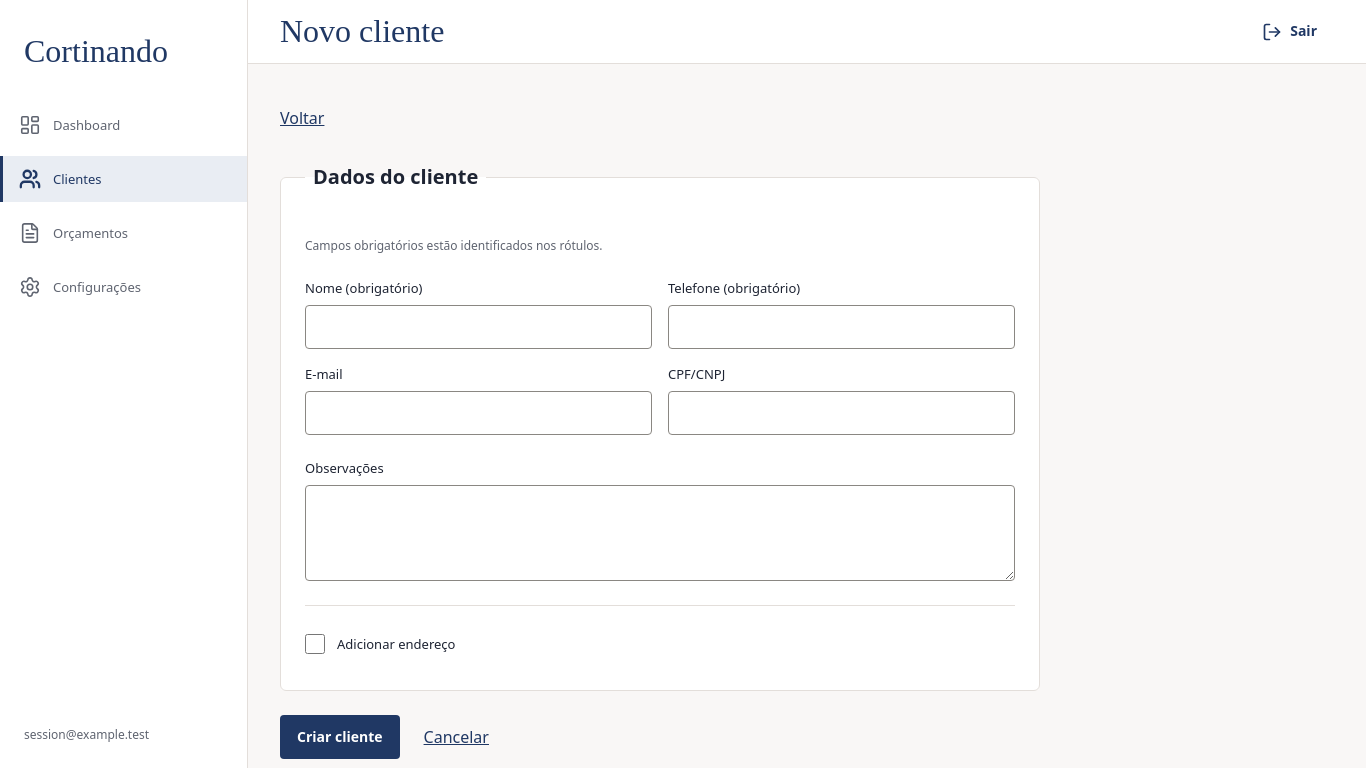
preserves input and shows safe backend failure network
This screenshot has width=1366, height=768.
In the field labelled "Nome (obrigatório)": (478, 327) [305,305,652,349], type "Ana"
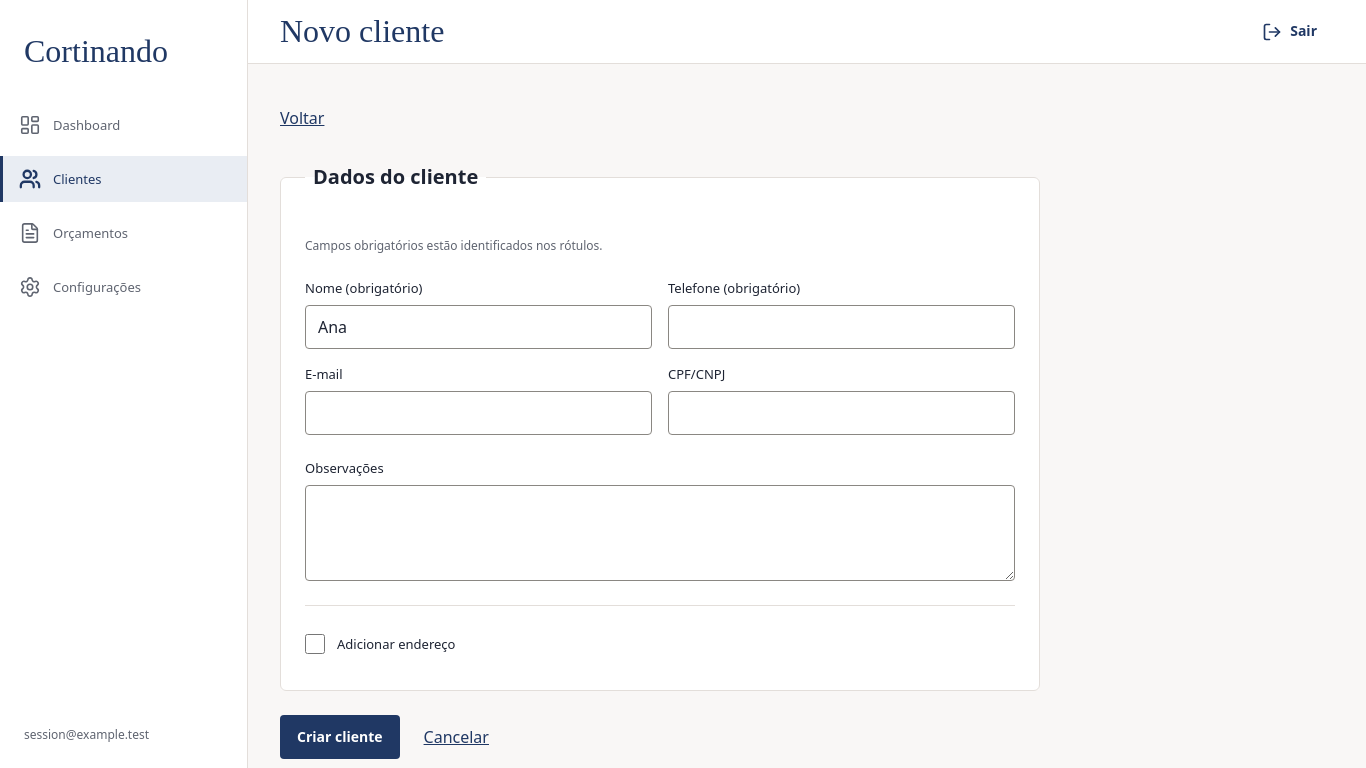
In the field labelled "Telefone (obrigatório)": (842, 327) [668,305,1015,349], type "11912345678"
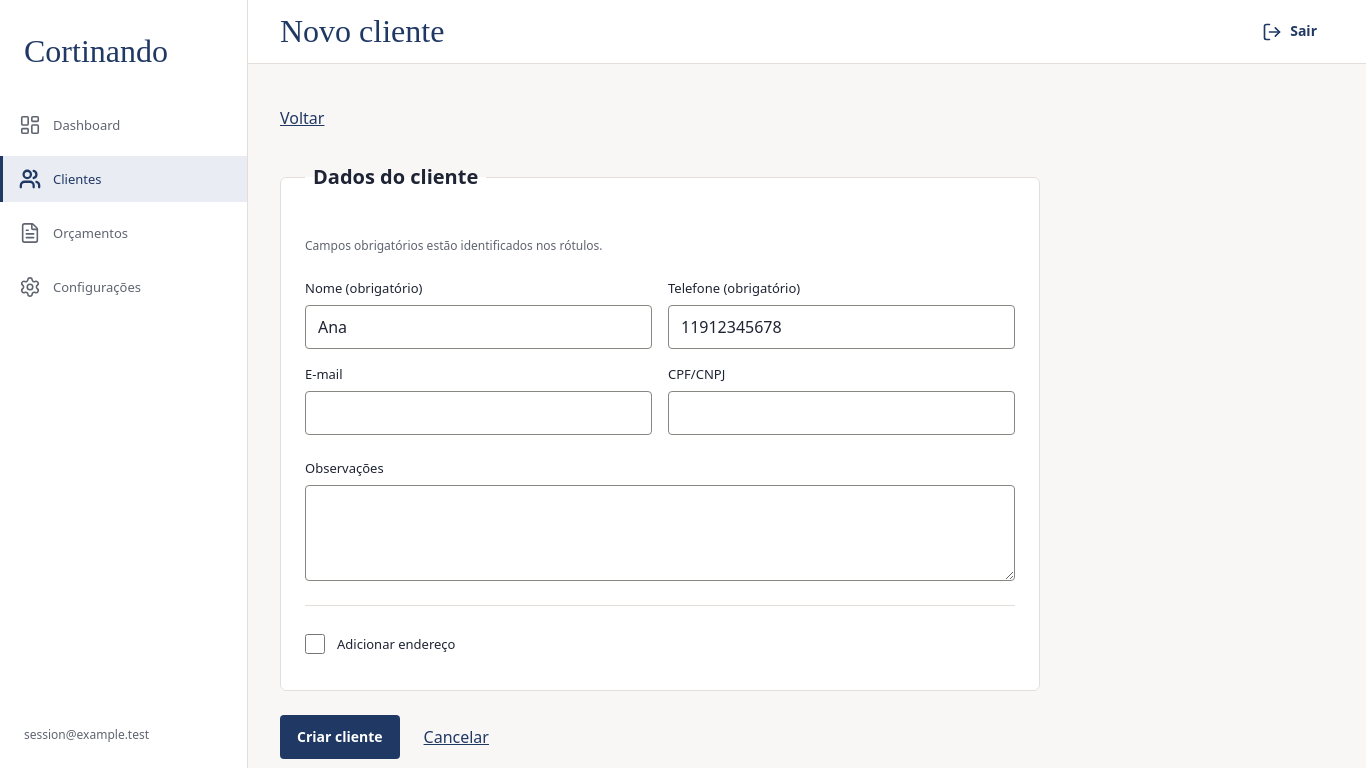
Click the button "Criar cliente": (340, 737) [280,715,400,759]
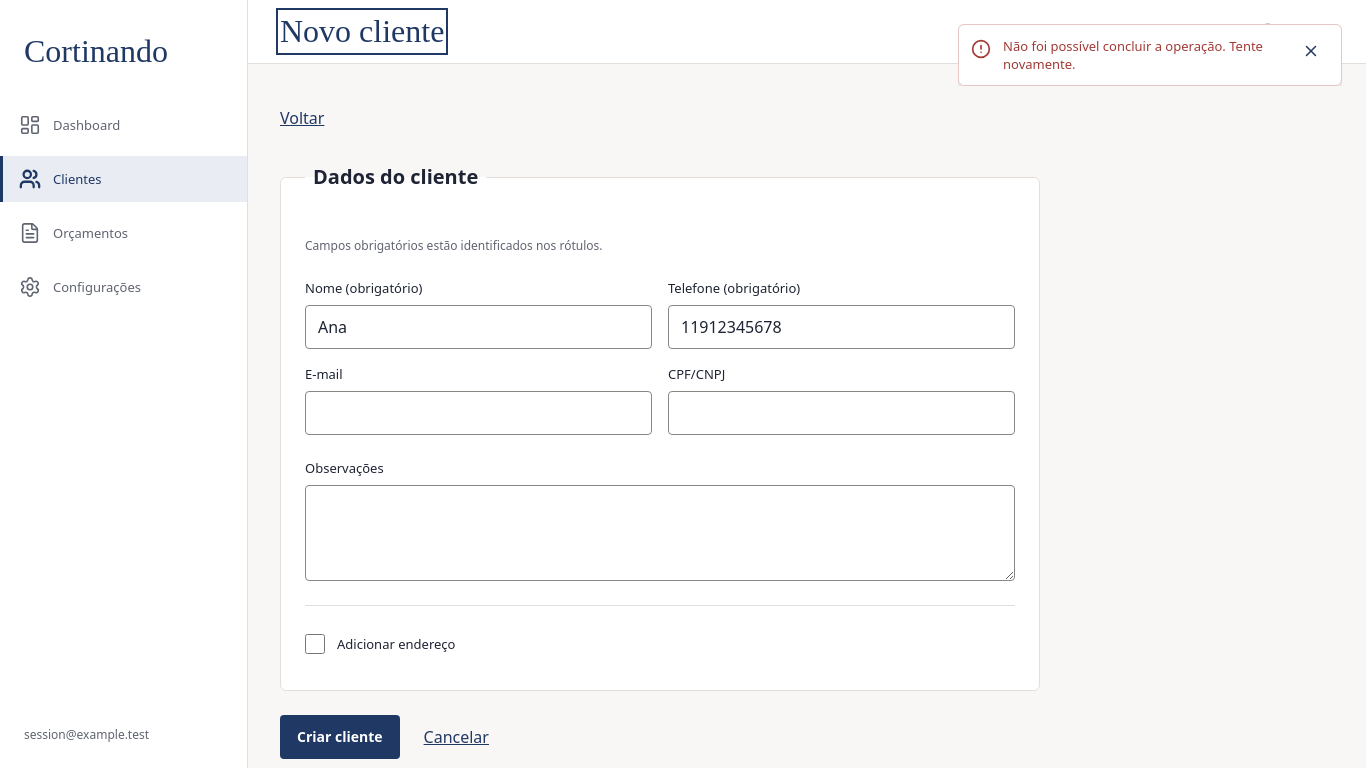
Result: the message "Não foi possível concluir a operação. Tente novamente." is shown at [1003,37,1273,73]
